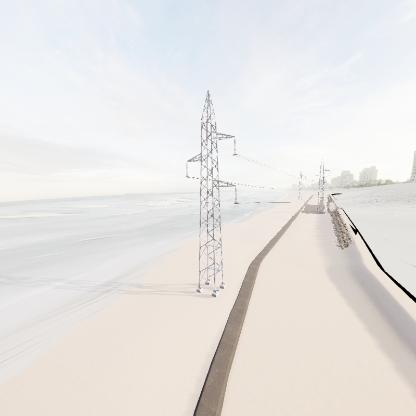tower: (181, 89, 241, 299)
